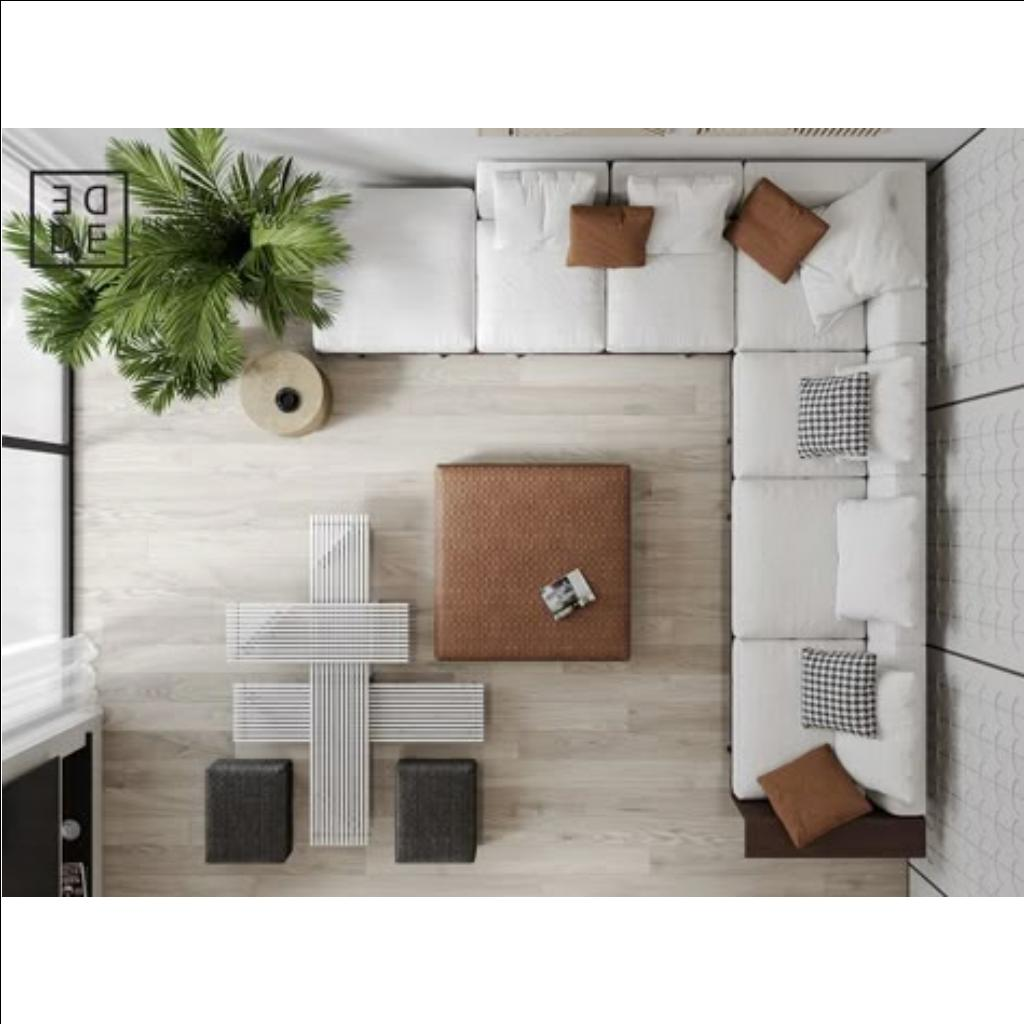bookshelf: (2, 715, 106, 895)
coffee table: (232, 515, 426, 751)
floor plant: (200, 190, 302, 288)
ottoman: (437, 464, 629, 660), (318, 184, 474, 350), (202, 760, 292, 864), (394, 760, 476, 866)
side table: (240, 350, 328, 440), (742, 819, 924, 859)
sofa: (734, 358, 928, 810), (478, 164, 928, 354)
window: (3, 134, 29, 440), (3, 448, 29, 710)
